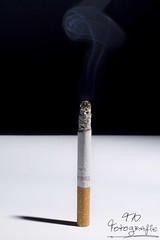cigarette: (74, 99, 94, 229)
